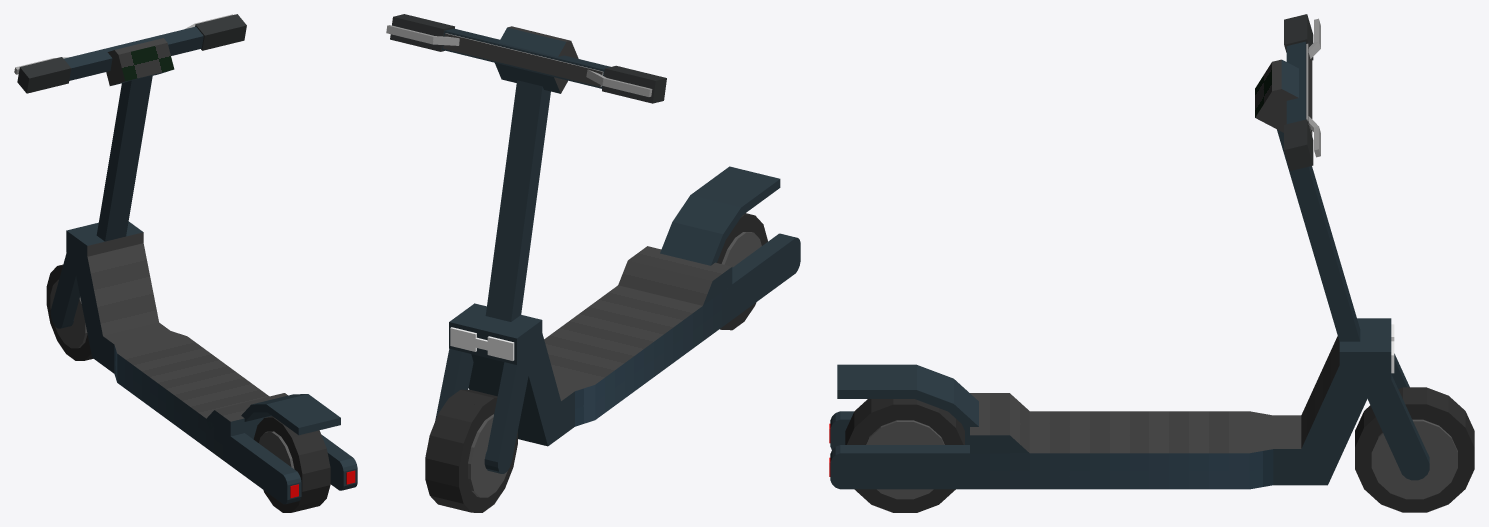
Rendered from escoter.dae.
3 renders of one model, left to right at view 1: azimuth 30°, elevation 25°; view 2: azimuth 150°, elevation 25°; view 3: azimuth 270°, elevation 25°, orthographic. The views are drawn at different scales.
Visible parts, largest first — view 1: cube (×14), hexadecagon (×4); view 2: cube (×23), hexadecagon (×6); view 3: cube (×17), hexadecagon (×12).
Boxes of the visible parts, x1,y1,x2,y2 form: cube (×14): (17, 14, 352, 503); hexadecagon (×4): (253, 425, 330, 505); cube (×23): (390, 14, 795, 456); hexadecagon (×6): (425, 390, 517, 512); cube (×17): (837, 14, 1427, 489); hexadecagon (×12): (854, 387, 1474, 512).
Size of the model in its own units: 0.9688 by 1.49 by 2.02.
Materials: 3 (3 with a texture image).
